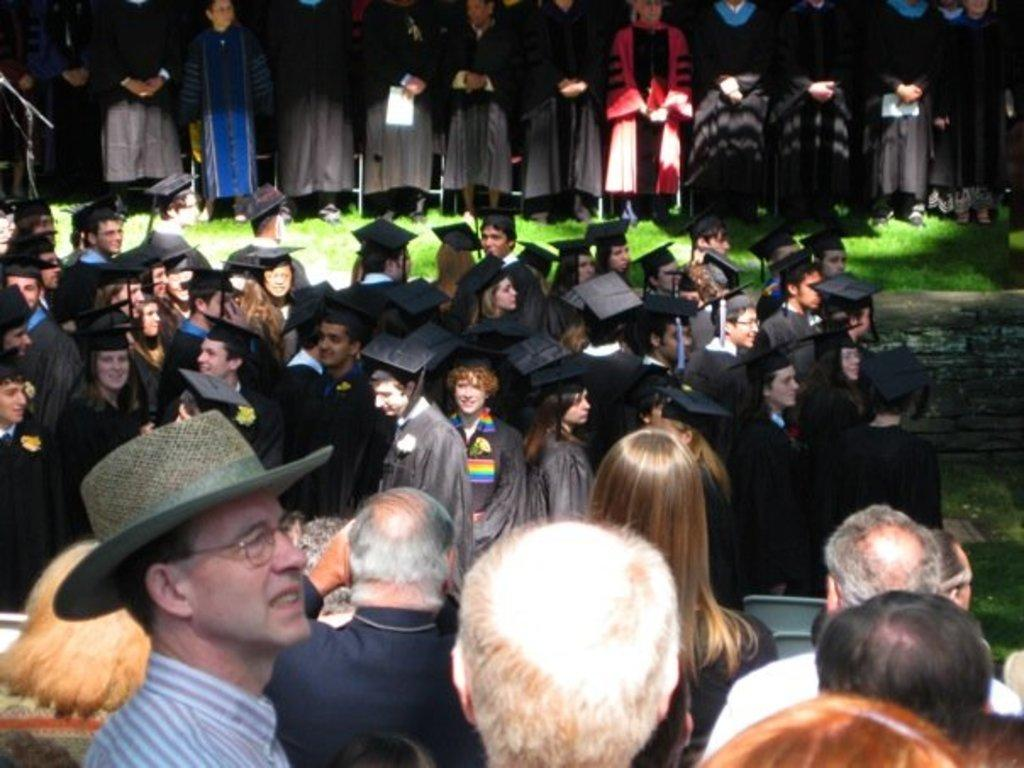Hat: (0, 171, 930, 415), (43, 410, 335, 620)
